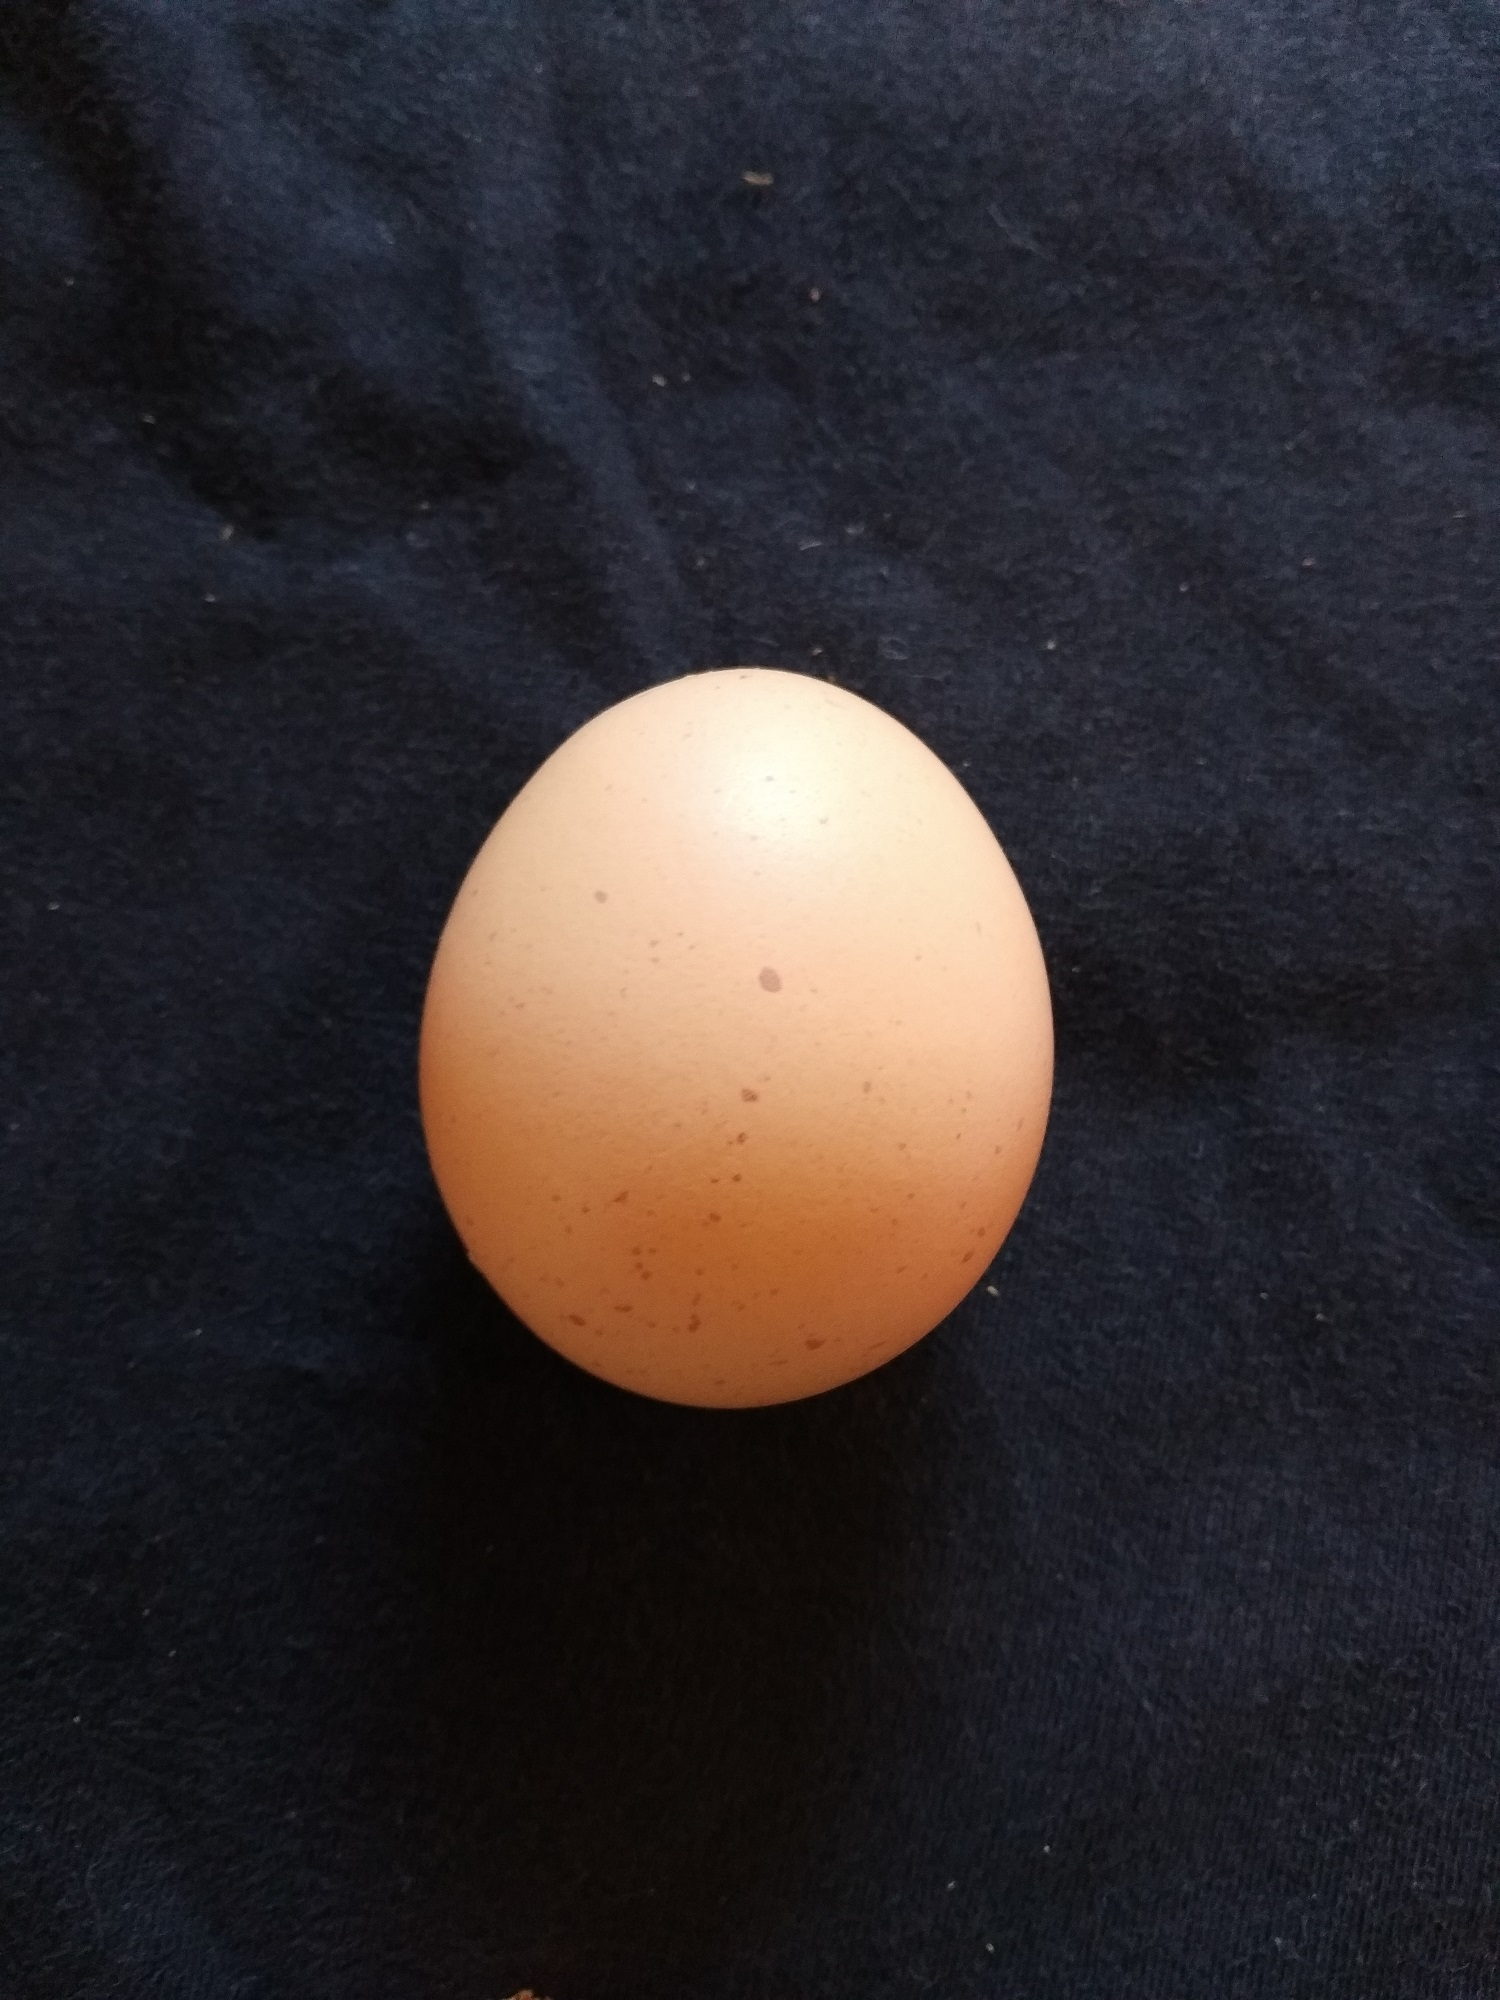Female: (414, 660, 1062, 1411)
